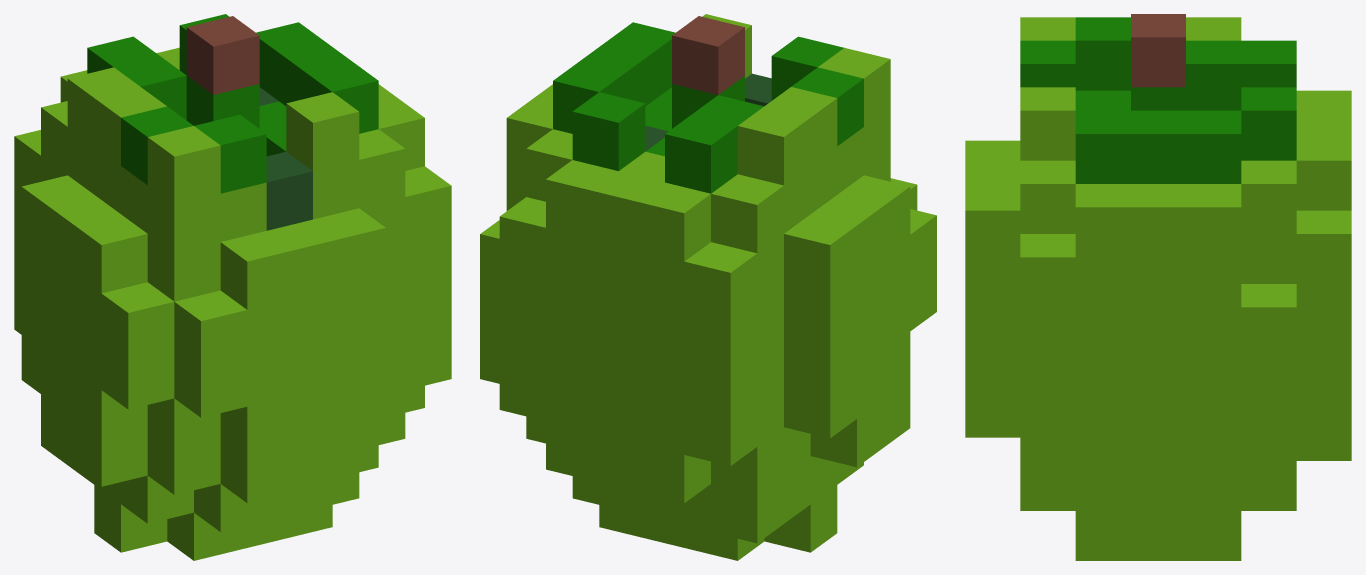
File: Medieval Assets-344-Vegetation - Crop - Lime.obj
3 views of the same model, side by side, from view 1: azimuth 30°, elevation 25°; view 2: azimuth 150°, elevation 25°; view 3: azimuth 270°, elevation 25° (orthographic). The views are drawn at different scales.
Visible parts, largest first — view 1: Vegetation - Crop - Lime; view 2: Vegetation - Crop - Lime; view 3: Vegetation - Crop - Lime.
Boxes of the visible parts, left/top/right/bottom form: Vegetation - Crop - Lime: left=14, top=14, right=451, bottom=560; Vegetation - Crop - Lime: left=480, top=14, right=936, bottom=560; Vegetation - Crop - Lime: left=965, top=14, right=1351, bottom=560.
Bounding box in the file's own units: 0.7 × 1 × 0.7.
1 material, 1 textured.
